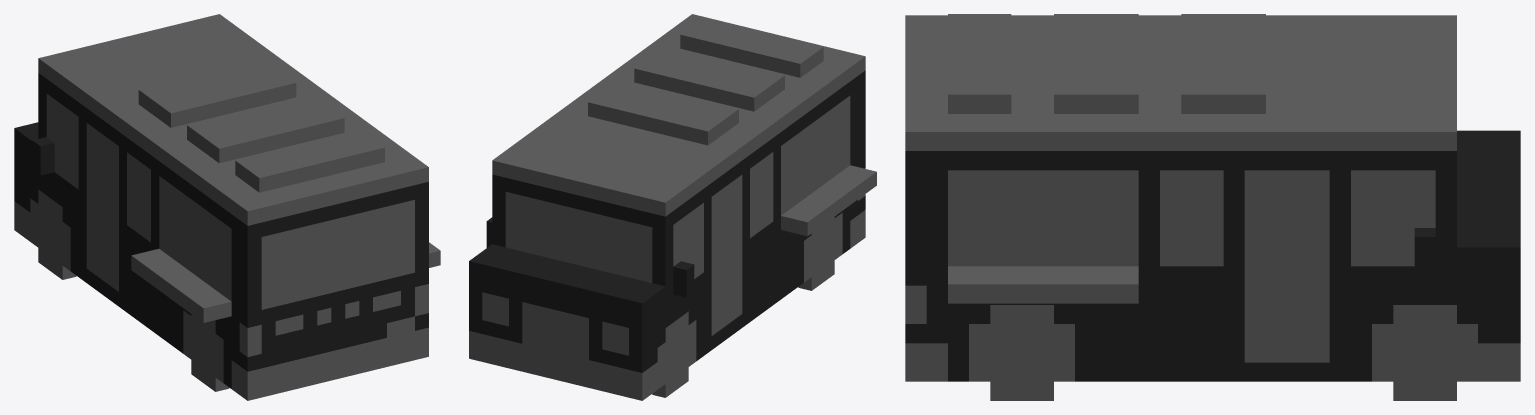
Rendered from veh_lunch1.obj.
3 renders of one model, left to right at view 1: azimuth 30°, elevation 25°; view 2: azimuth 150°, elevation 25°; view 3: azimuth 270°, elevation 25°, orthographic. The views are drawn at different scales.
Bounding box in the file's own units: 17 × 15 × 29.
